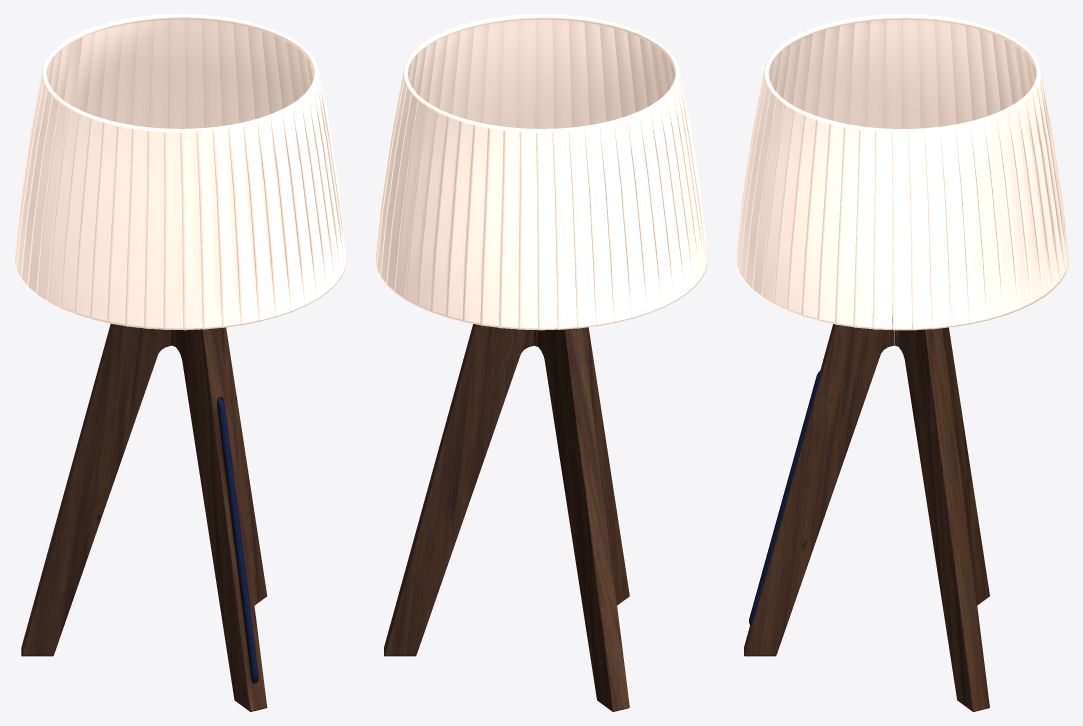
The model's file is lamp.glb.
3 renders of one model, left to right at view 1: azimuth 30°, elevation 25°; view 2: azimuth 150°, elevation 25°; view 3: azimuth 270°, elevation 25°, orthographic.
Visible parts, largest first — view 1: GREY_LAMP_SHADE, NATURAL_WOOD, RED_WIRE; view 2: GREY_LAMP_SHADE, NATURAL_WOOD; view 3: GREY_LAMP_SHADE, NATURAL_WOOD, RED_WIRE.
Boxes of the visible parts, x1=… form: GREY_LAMP_SHADE: x1=14, y1=14, x2=346, y2=330; NATURAL_WOOD: x1=21, y1=324, x2=267, y2=711; RED_WIRE: x1=217, y1=397, x2=258, y2=682; GREY_LAMP_SHADE: x1=375, y1=14, x2=707, y2=330; NATURAL_WOOD: x1=384, y1=324, x2=629, y2=711; GREY_LAMP_SHADE: x1=736, y1=14, x2=1068, y2=330; NATURAL_WOOD: x1=744, y1=316, x2=989, y2=711; RED_WIRE: x1=749, y1=369, x2=821, y2=625.
Size of what is drawn, in the model's own units: 33.24 by 64.02 by 33.26.
Materials: 6 (3 with a texture image).
